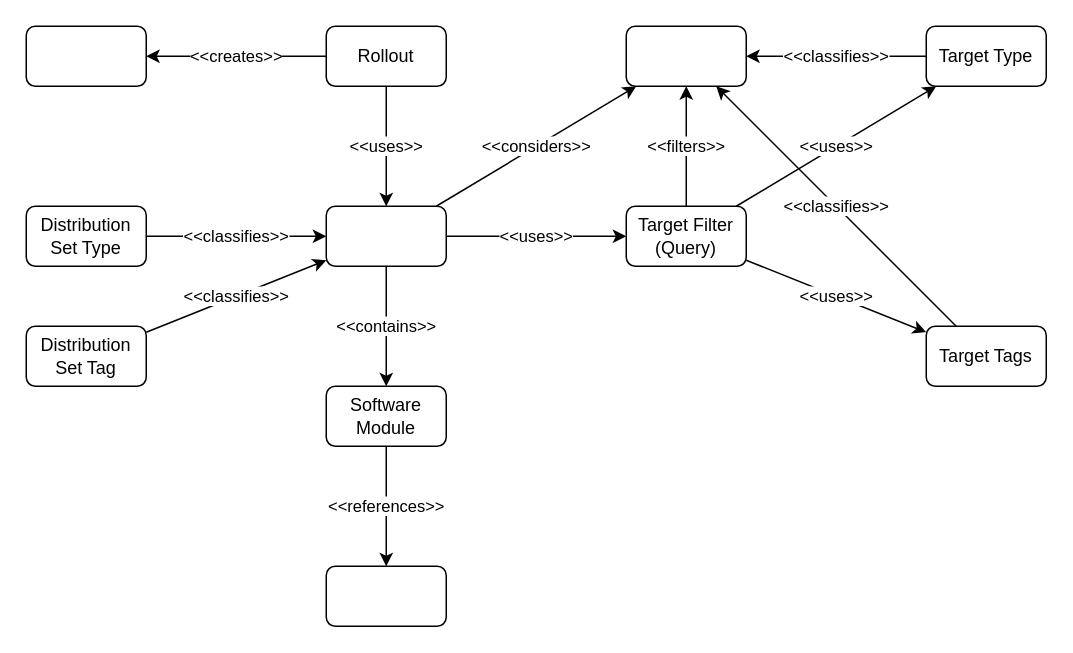
The diagram is 1073 pixels wide and 653 high, and some of its shapes have lost their labels. Each missing label, with the box of its shape:
Action: (25, 25, 146, 86)
Artifact: (325, 565, 446, 626)
Distribution Set: (325, 205, 446, 266)
Target: (625, 25, 746, 86)
